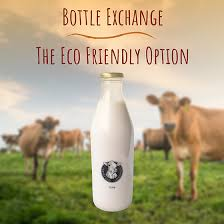milk: (86, 65, 138, 201)
